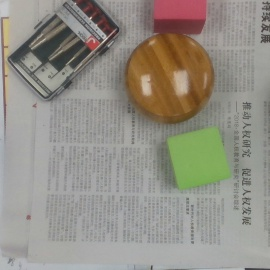chess: (125, 31, 214, 123)
